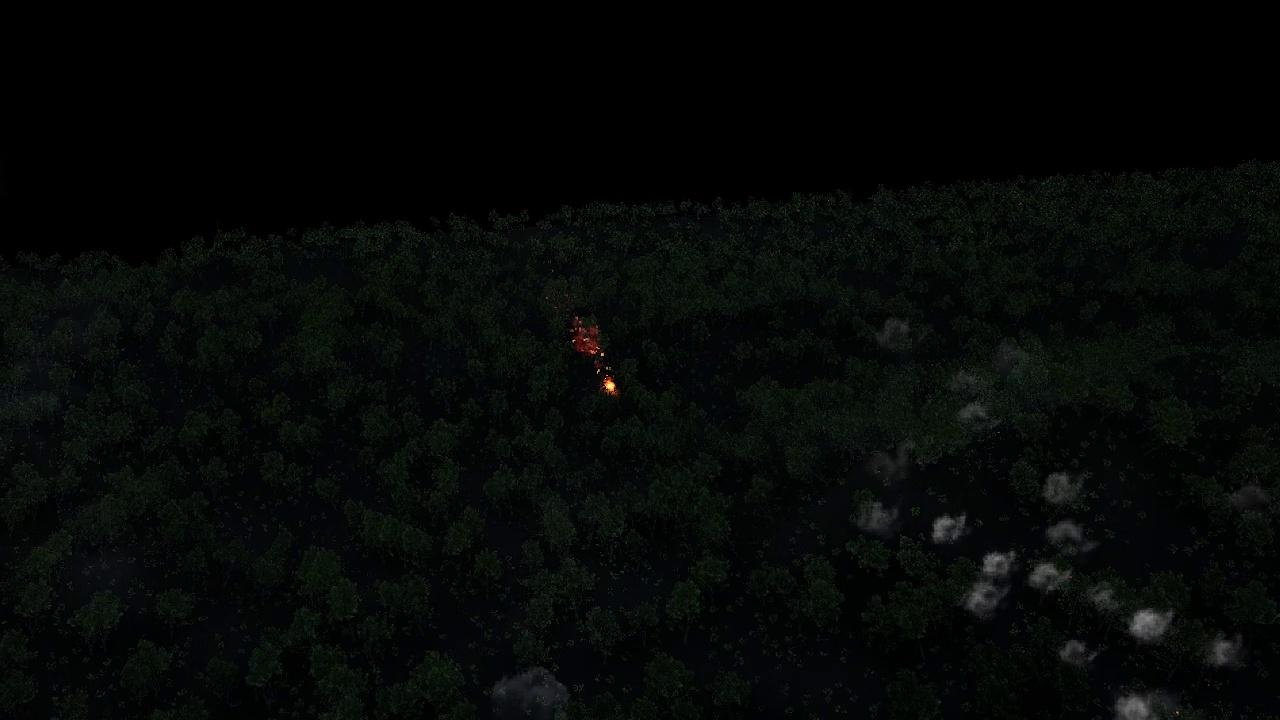fire: (570, 318, 602, 358), (593, 362, 620, 396)
smoke: (938, 462, 1146, 616), (484, 667, 569, 720), (955, 374, 996, 432), (1107, 691, 1177, 720), (870, 442, 916, 483), (878, 317, 923, 356), (855, 499, 899, 535), (1126, 609, 1171, 642), (1204, 632, 1243, 669), (996, 337, 1037, 372), (1042, 471, 1085, 504), (1044, 521, 1092, 550), (928, 511, 970, 544), (1057, 638, 1098, 667), (1233, 481, 1267, 511)
